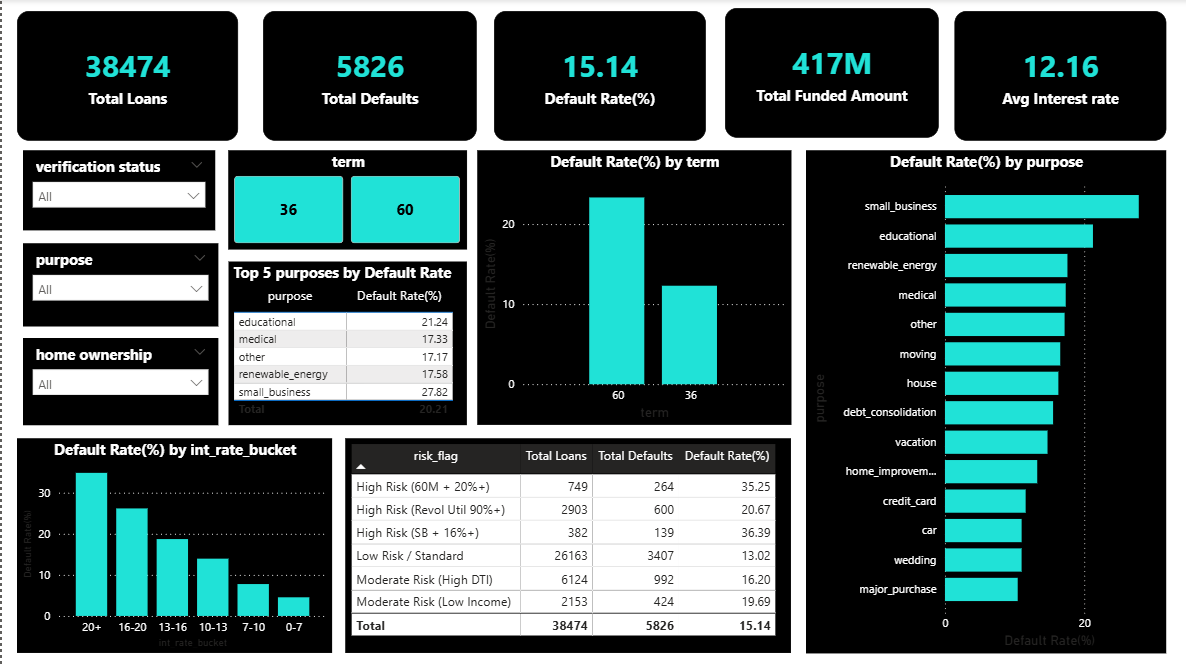

The page's visual inventory and layout, read from the dashboard file:
{"tool":"powerbi","page":{"name":"Executive Summary","canvas":[1280,720],"ordinal":0},"visuals":[{"type":"card","fields":{"Values":["loan_default_cleaned.Total Loans"]},"box":[16.2,12.2,239,139.7],"z":0},{"type":"card","fields":{"Values":["loan_default_cleaned.Total Defaults"]},"box":[281.5,12.2,230.9,139.7],"z":1000},{"type":"card","fields":{"Values":["loan_default_cleaned.Default Rate(%)"]},"box":[530.6,12.2,228.9,139.7],"z":2000},{"type":"card","fields":{"Values":["loan_default_cleaned.Total Funded Amount"]},"box":[779.7,10.1,230.9,139.7],"z":3000},{"type":"card","fields":{"Values":["loan_default_cleaned.Avg Interest rate"]},"box":[1028.9,12.2,228.9,139.7],"z":4000},{"type":"clusteredColumnChart","fields":{"Category":["loan_default_cleaned.term"],"Y":["loan_default_cleaned.Default Rate(%)"]},"box":[513.3,163.5,338.4,296.3],"z":5000},{"type":"clusteredBarChart","fields":{"Category":["loan_default_cleaned.purpose"],"Y":["loan_default_cleaned.Default Rate(%)"]},"box":[867.9,163.5,388.6,542.4],"z":6000},{"type":"clusteredColumnChart","fields":{"Category":["loan_default_cleaned.int_rate_bucket"],"Y":["loan_default_cleaned.Default Rate(%)"]},"box":[16.2,474.4,340,231.5],"z":7000},{"type":"tableEx","fields":{"Values":["loan_default_cleaned.risk_flag","loan_default_cleaned.Total Loans","loan_default_cleaned.Total Defaults","loan_default_cleaned.Default Rate(%)"]},"box":[370.8,474.4,480.9,231.5],"z":8000},{"type":"advancedSlicerVisual","fields":{"Values":["loan_default_cleaned.term"]},"box":[244.5,163.5,257.5,106.9],"z":9000},{"type":"slicer","fields":{"Values":["loan_default_cleaned.purpose"]},"box":[22.7,263.1,210.5,89.1],"z":10000},{"type":"slicer","fields":{"Values":["loan_default_cleaned.verification_status"]},"box":[22.7,163.5,207.3,85.8],"z":11000},{"type":"slicer","fields":{"Values":["loan_default_cleaned.home_ownership"]},"box":[22.7,365.9,210.5,93.9],"z":12000},{"type":"tableEx","title":"Top 5 purposes by Default Rate","fields":{"Values":["loan_default_cleaned.purpose","loan_default_cleaned.Default Rate(%)"]},"box":[244.5,283.4,257.5,176.5],"z":13000}]}

Visuals, with their boxes in screenshot pixels (x1, y1, x2, y2), scaled from the page's 1280x720 canvas onto the 1186x665 screenshot:
card - loan_default_cleaned.Total Loans: box(15, 11, 236, 140)
card - loan_default_cleaned.Total Defaults: box(261, 11, 475, 140)
card - loan_default_cleaned.Default Rate(%): box(492, 11, 704, 140)
card - loan_default_cleaned.Total Funded Amount: box(722, 9, 936, 138)
card - loan_default_cleaned.Avg Interest rate: box(953, 11, 1165, 140)
clusteredColumnChart - loan_default_cleaned.term x loan_default_cleaned.Default Rate(%): box(476, 151, 789, 425)
clusteredBarChart - loan_default_cleaned.purpose x loan_default_cleaned.Default Rate(%): box(804, 151, 1164, 652)
clusteredColumnChart - loan_default_cleaned.int_rate_bucket x loan_default_cleaned.Default Rate(%): box(15, 438, 330, 652)
tableEx - loan_default_cleaned.risk_flag x loan_default_cleaned.Total Loans: box(344, 438, 789, 652)
advancedSlicerVisual - loan_default_cleaned.term: box(227, 151, 465, 250)
slicer - loan_default_cleaned.purpose: box(21, 243, 216, 325)
slicer - loan_default_cleaned.verification_status: box(21, 151, 213, 230)
slicer - loan_default_cleaned.home_ownership: box(21, 338, 216, 425)
"Top 5 purposes by Default Rate" tableEx: box(227, 262, 465, 425)
